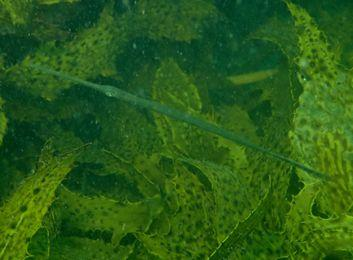Fistularia commersonii: (84, 63, 325, 186)
